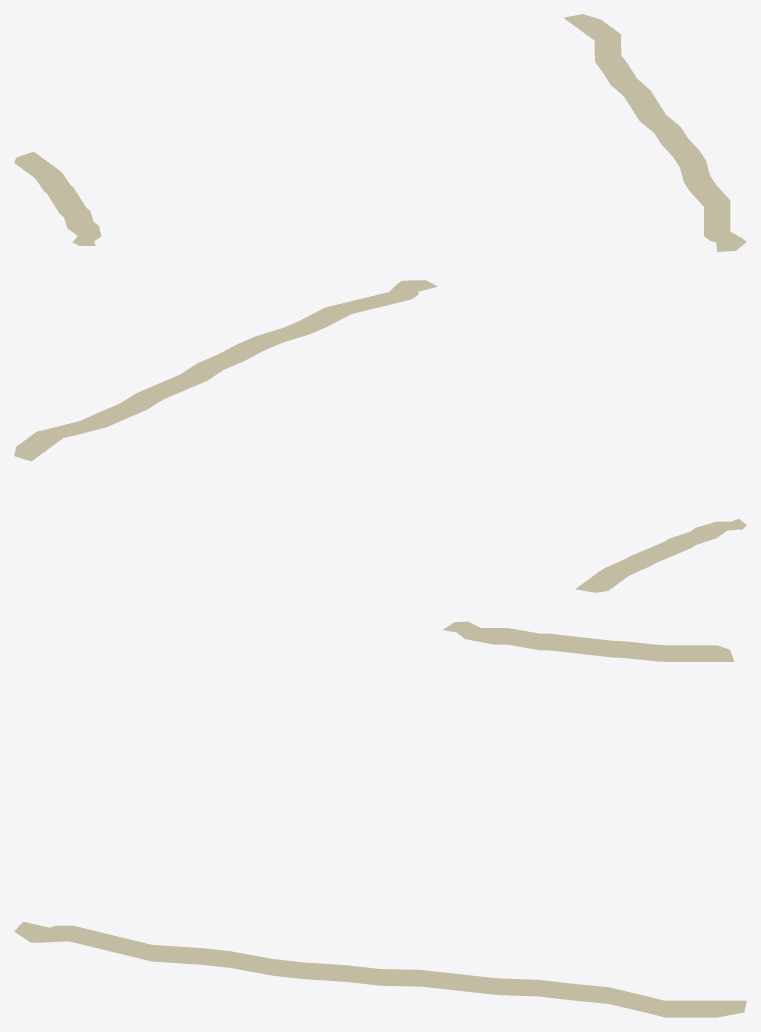
File: foam_3_30.fbx
3 renders of one model, top to bottom at view 1: azimuth 30°, elevation 25°; view 2: azimuth 150°, elevation 25°; view 3: azimuth 270°, elevation 25°, orthographic. The views are drawn at different scales.
Visible parts, largest first — view 1: foam_2, foam_1; view 2: foam_2, foam_1; view 3: foam_2, foam_1.
Boxes of the visible parts, left/top/right/bottom form: foam_2: left=563, top=14, right=746, bottom=251; foam_1: left=14, top=151, right=101, bottom=245; foam_2: left=14, top=280, right=437, bottom=461; foam_1: left=575, top=519, right=746, bottom=592; foam_2: left=14, top=922, right=746, bottom=1017; foam_1: left=443, top=621, right=734, bottom=661.
Bounding box in the file's own units: 35.53 × 1.19e-05 × 27.79.
